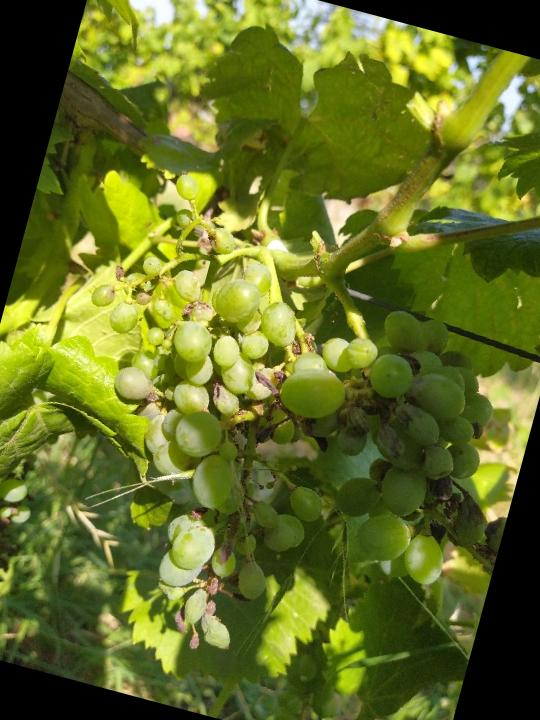grape: (7, 158, 537, 710)
